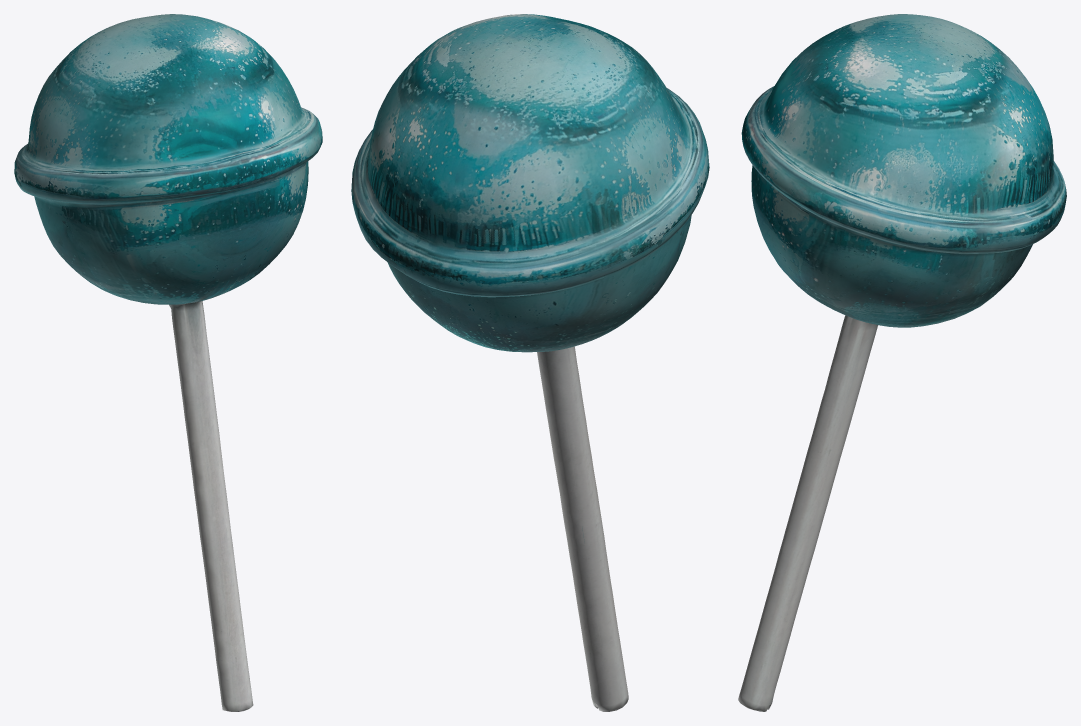
File: candy.fbx
3 views of the same model, side by side, from view 1: azimuth 30°, elevation 25°; view 2: azimuth 150°, elevation 25°; view 3: azimuth 270°, elevation 25° (orthographic). The views are drawn at different scales.
Parts seen in each view (by area): view 1: texture_mapping; view 2: texture_mapping; view 3: texture_mapping.
Part boxes in pixels (<box>): texture_mapping: <box>14,14,322,711</box>; texture_mapping: <box>351,14,709,711</box>; texture_mapping: <box>738,14,1066,711</box>.
Size of the model in its own units: 0.4449 by 0.4409 by 1.
1 material, 1 textured.
